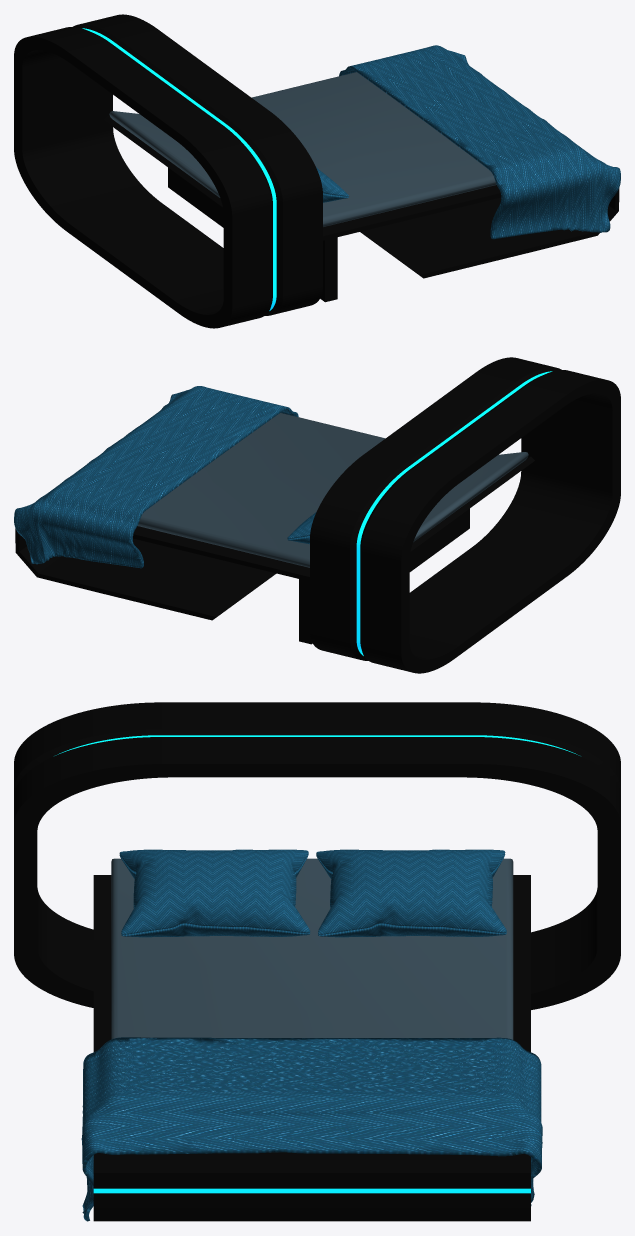
The model's file is futuristic_sci-fi_bed_with_led_lights.glb.
3 renders of one model, top to bottom at view 1: azimuth 30°, elevation 25°; view 2: azimuth 150°, elevation 25°; view 3: azimuth 270°, elevation 25°, orthographic. The views are drawn at different scales.
Visible parts, largest first — view 1: Cube, Plane.001, Plane.002, Plane.005, Plane.003; view 2: Cube, Plane.002, Plane.001, Plane.005; view 3: Cube, Plane.001, Plane.002, Plane.005, Plane.003, Plane.004.
Boxes of the visible parts, left/top/right/bottom form: Cube: left=14, top=14, right=322, bottom=328; Plane.001: left=339, top=45, right=620, bottom=239; Plane.002: left=109, top=72, right=496, bottom=226; Plane.005: left=103, top=116, right=619, bottom=302; Plane.003: left=316, top=167, right=348, bottom=202; Cube: left=310, top=357, right=620, bottom=673; Plane.002: left=137, top=413, right=528, bottom=567; Plane.001: left=14, top=386, right=298, bottom=568; Plane.005: left=15, top=456, right=534, bottom=644; Cube: left=14, top=702, right=620, bottom=1009; Plane.001: left=81, top=1037, right=542, bottom=1221; Plane.002: left=111, top=858, right=513, bottom=1039; Plane.005: left=93, top=875, right=530, bottom=1221; Plane.003: left=119, top=849, right=310, bottom=937; Plane.004: left=316, top=849, right=506, bottom=937.
Size of the model in its own units: 2.1 by 0.8729 by 1.91.
Materials: 4 (1 with a texture image).
